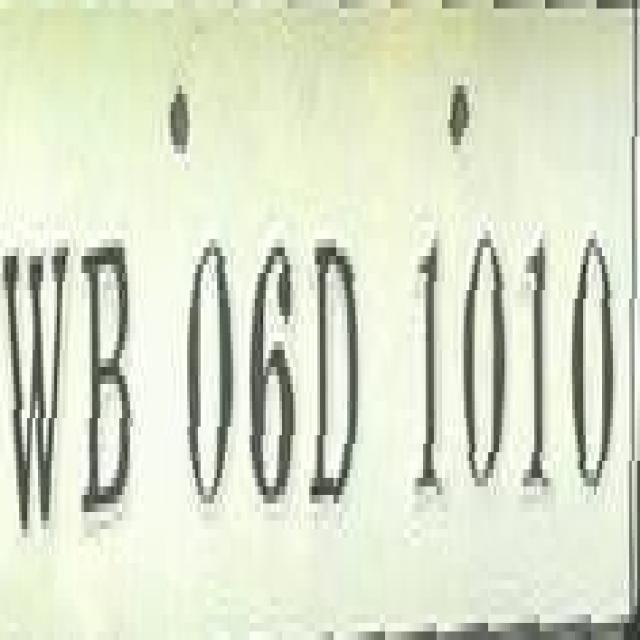license_plate: (5, 8, 640, 623)
